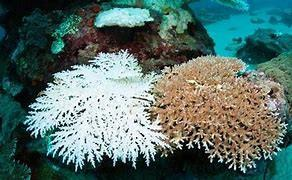bleached_corals: (16, 44, 172, 180)
